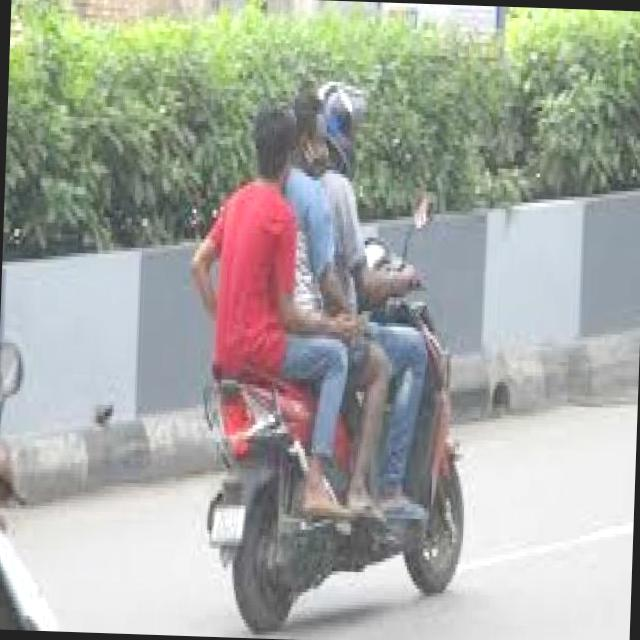motorcycle: (209, 172, 484, 630)
person: (186, 98, 304, 380), (269, 77, 378, 363), (242, 88, 332, 358)
rider_region: (189, 74, 481, 638)
